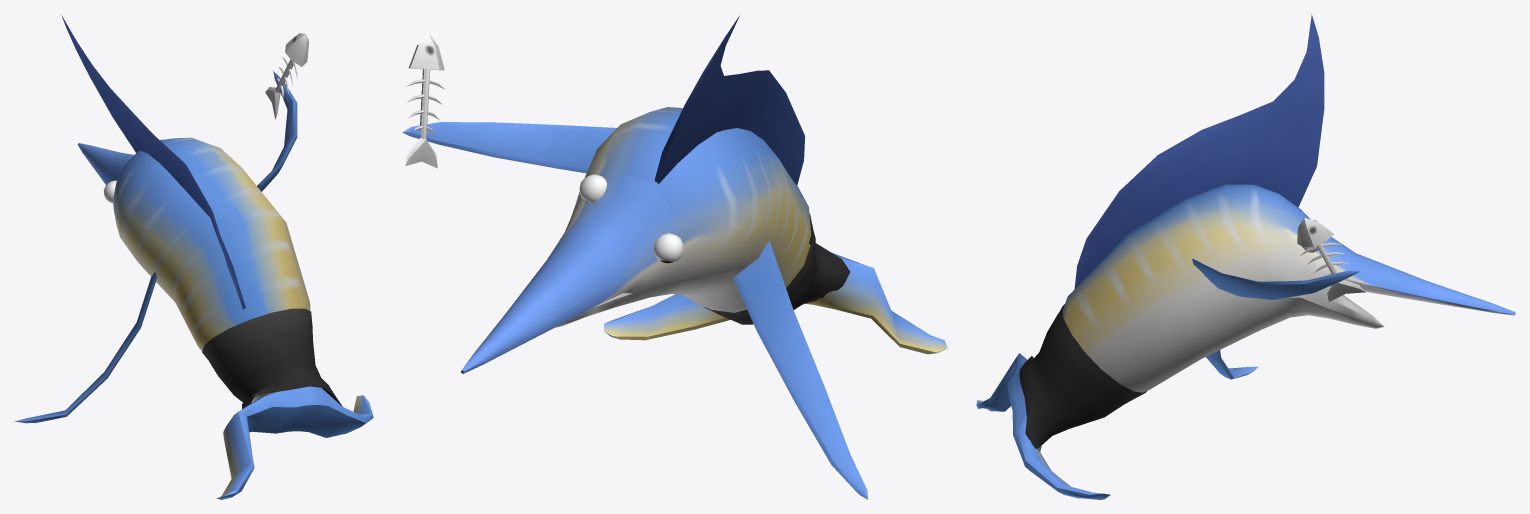
The model's file is kajiki_fix_07.fbx.
3 renders of one model, left to right at view 1: azimuth 30°, elevation 25°; view 2: azimuth 150°, elevation 25°; view 3: azimuth 270°, elevation 25°, orthographic. The views are drawn at different scales.
Parts seen in each view (by area): view 1: F_07; view 2: F_07; view 3: F_07.
Part boxes in pixels (x1,y1,x2,y2): F_07: (14,15,373,499); F_07: (402,15,947,499); F_07: (976,14,1515,499).
Size of the model in its own units: 1.88 by 2.1 by 2.62.
Materials: 2 (2 with a texture image).
